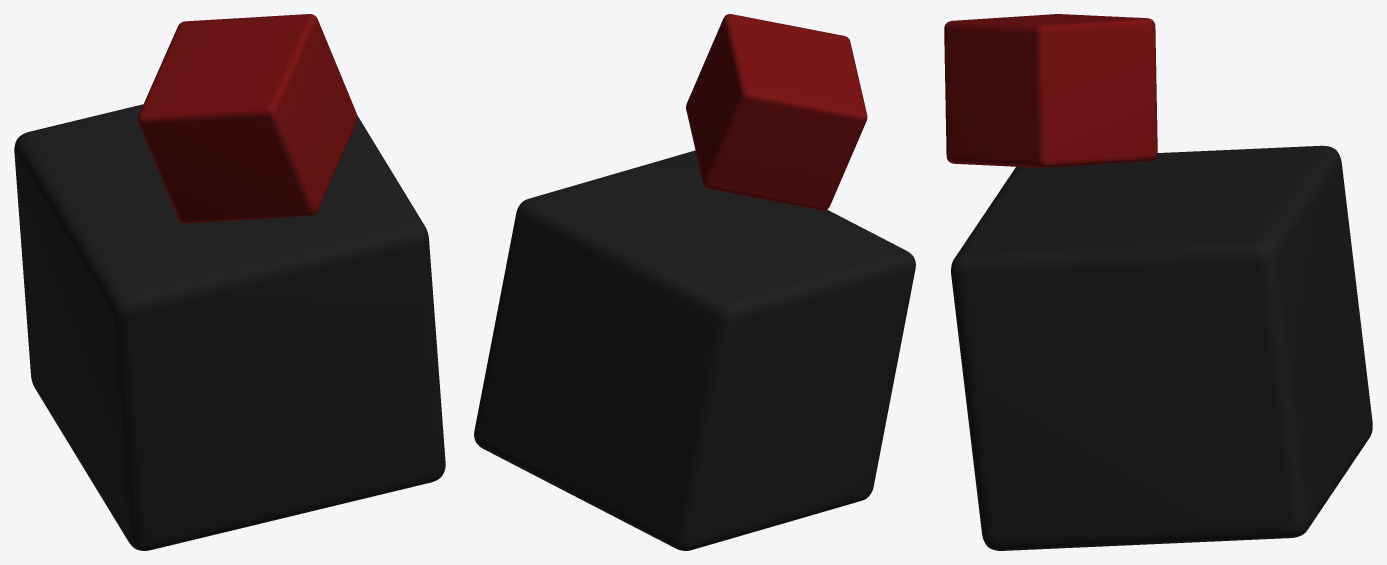
3 renders of one model, left to right at view 1: azimuth 30°, elevation 25°; view 2: azimuth 150°, elevation 25°; view 3: azimuth 270°, elevation 25°, orthographic. The views are drawn at different scales.
Parts seen in each view (by area): view 1: Box004; view 2: Box004; view 3: Box004.
Boxes of the visible parts, x1,y1,x2,y2 form: Box004: [14, 14, 445, 550]; Box004: [474, 14, 915, 550]; Box004: [944, 14, 1372, 550].
Size of the model in its own units: 0.0294 by 0.0387 by 0.0297.
